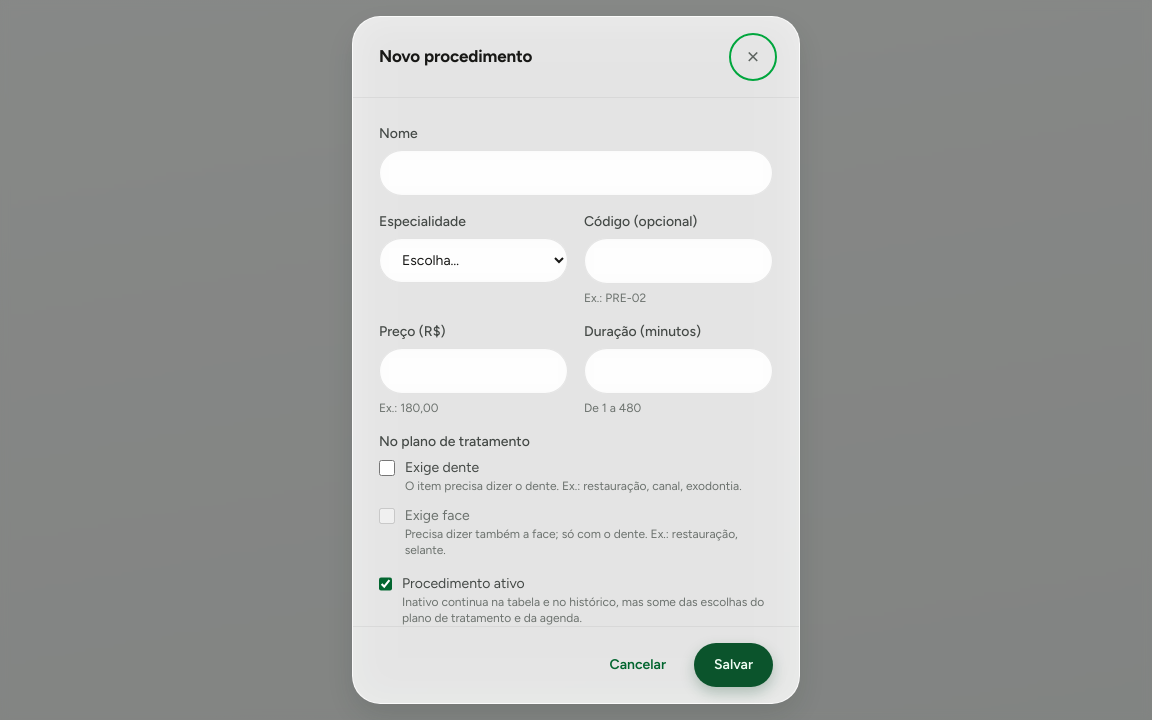
Scenario: cadastro de procedimento › preço fora do padrão brasileiro (três casas decimais) não grava
Step 1. Type "Consulta de retorno" into the field labelled "Nome" → (576, 173), box left=379, top=150, right=773, bottom=196
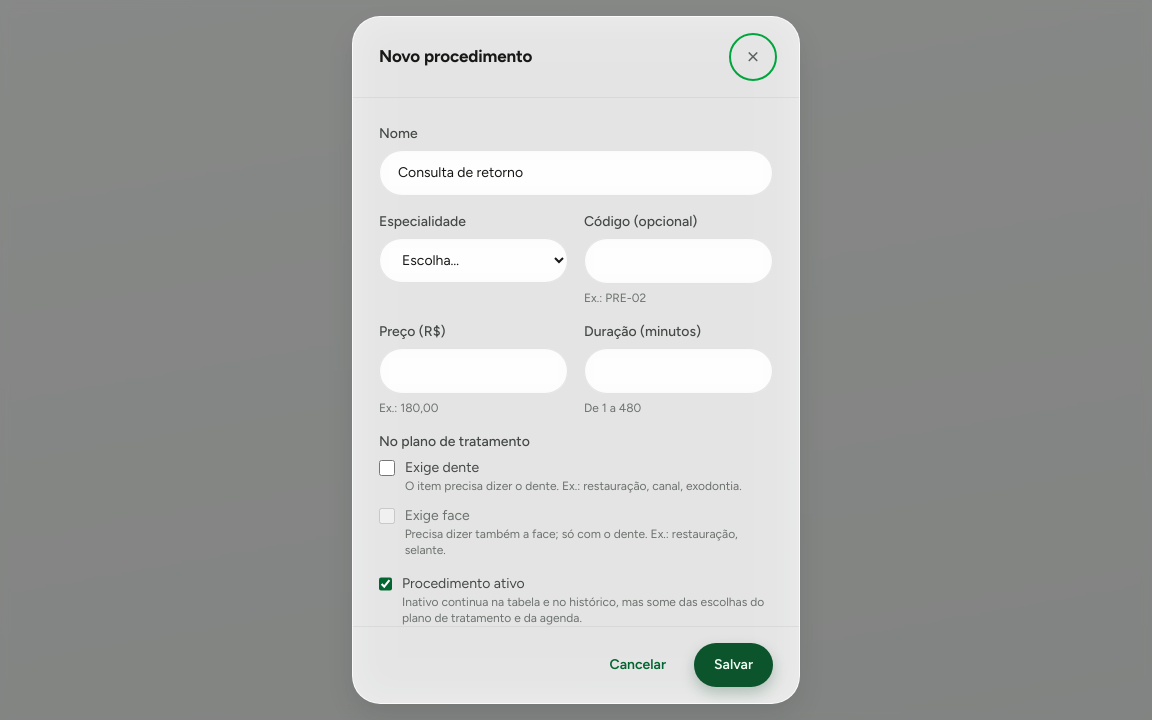
Step 2. Select "Prevenção" in the dropdown labelled "Especialidade" → (474, 260), box left=379, top=238, right=568, bottom=283
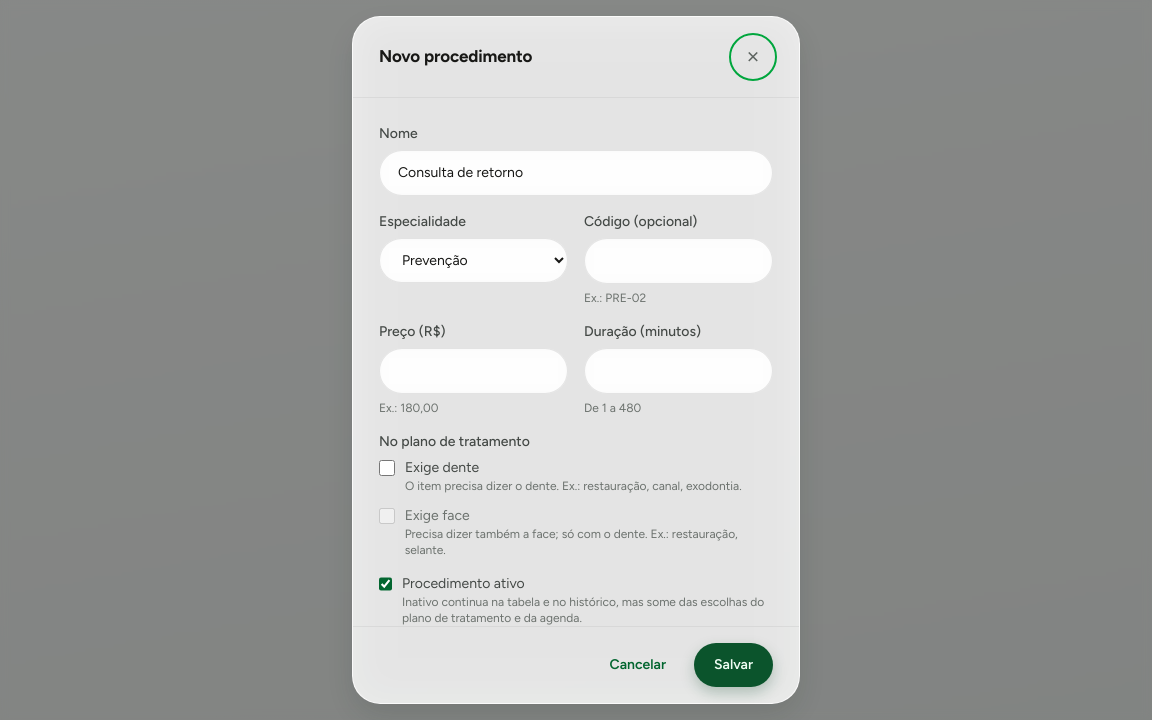
Step 3. Type "12,345" into the field labelled "Preço (R$)" → (474, 371), box left=379, top=348, right=568, bottom=394
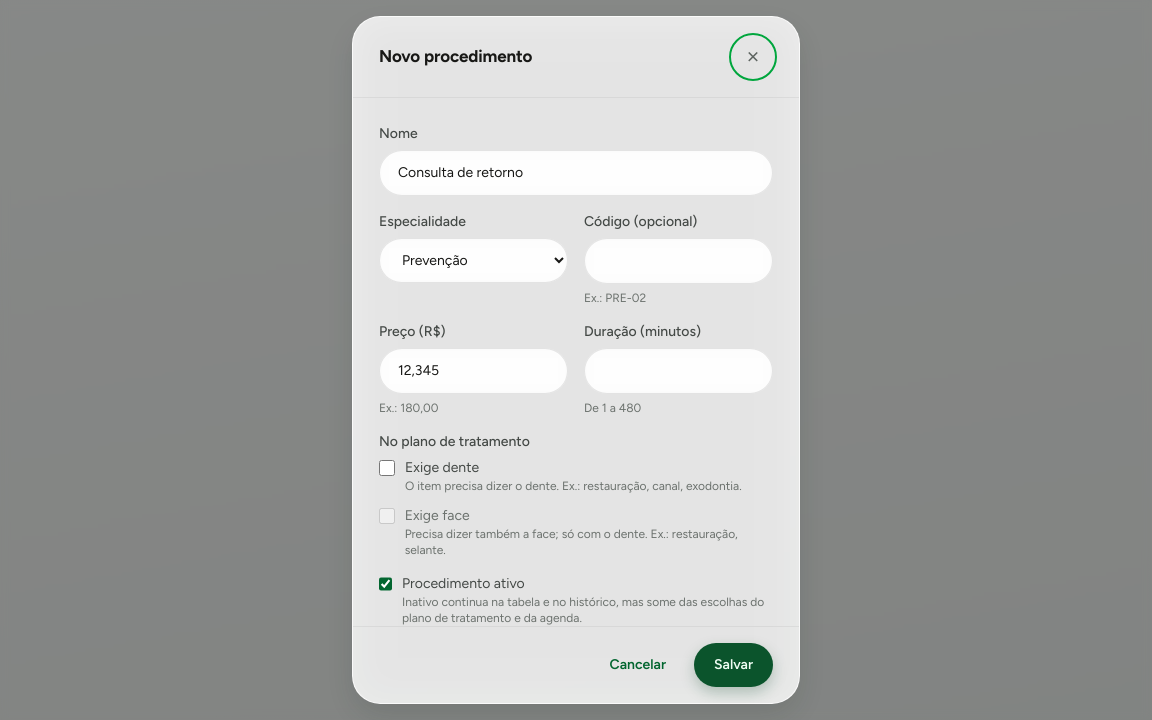
Step 4. Type "30" into the field labelled "Duração (minutos)" → (678, 371), box left=584, top=348, right=773, bottom=394
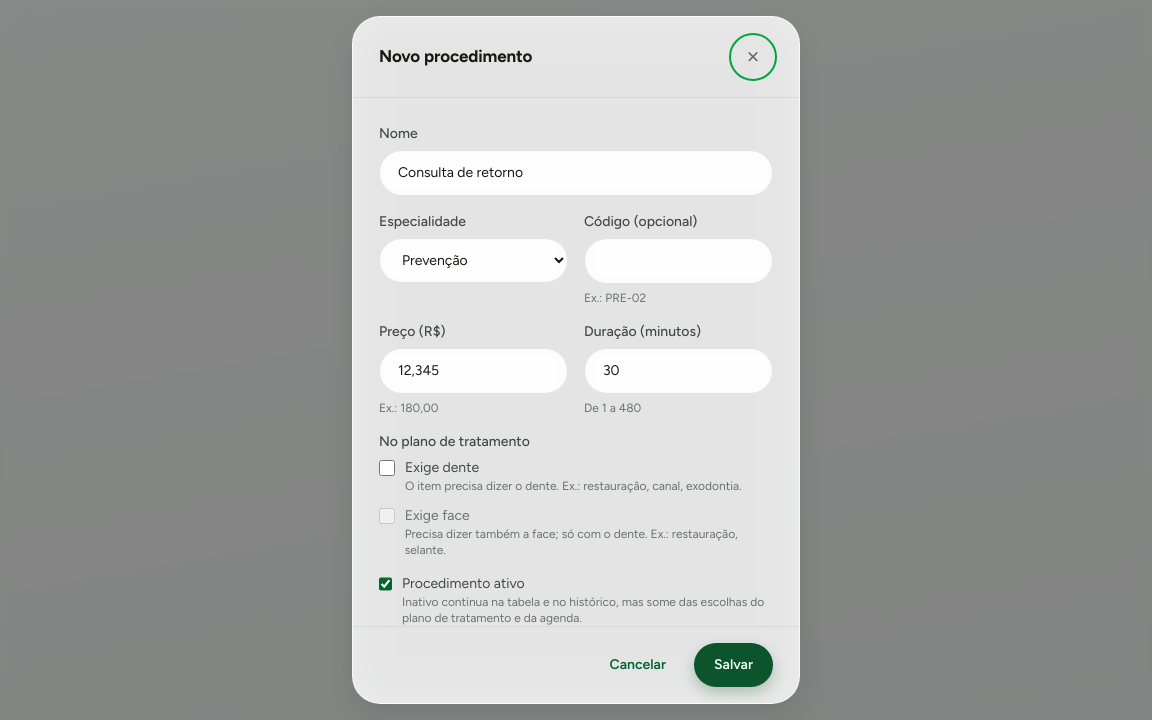
Step 5. Click the button "Salvar" → (734, 665), box left=694, top=643, right=773, bottom=687
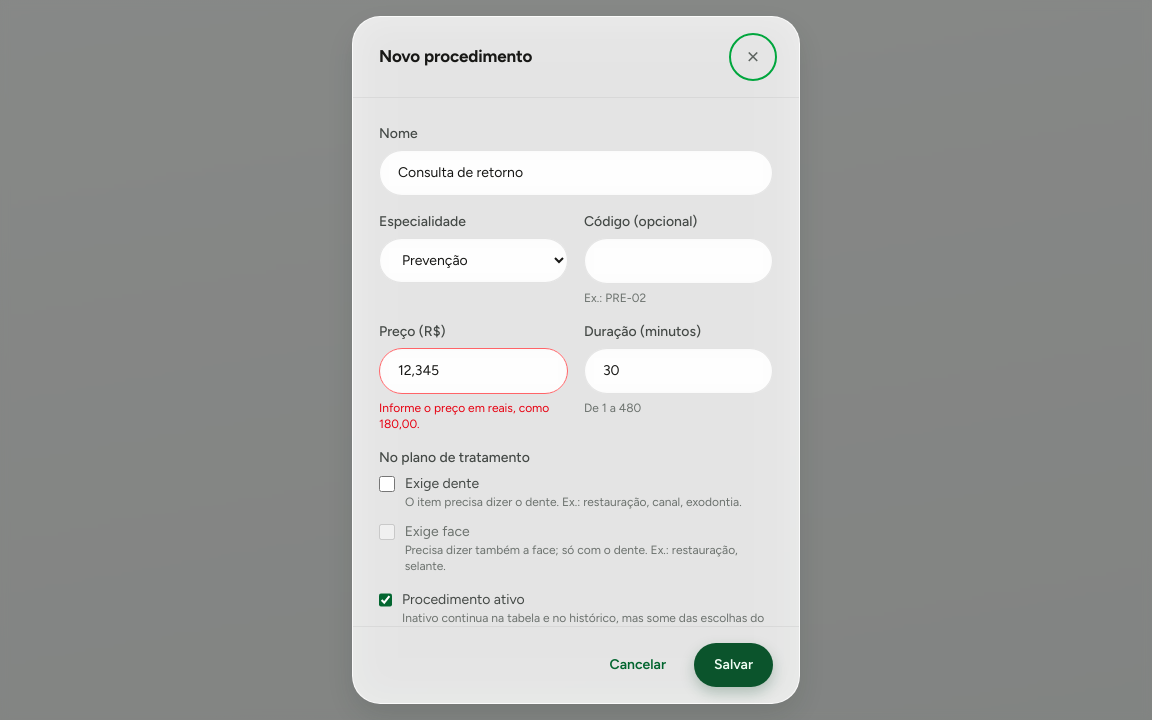
Check: the text "Informe o preço em reais, como 180,00." is shown, box left=379, top=400, right=568, bottom=432
